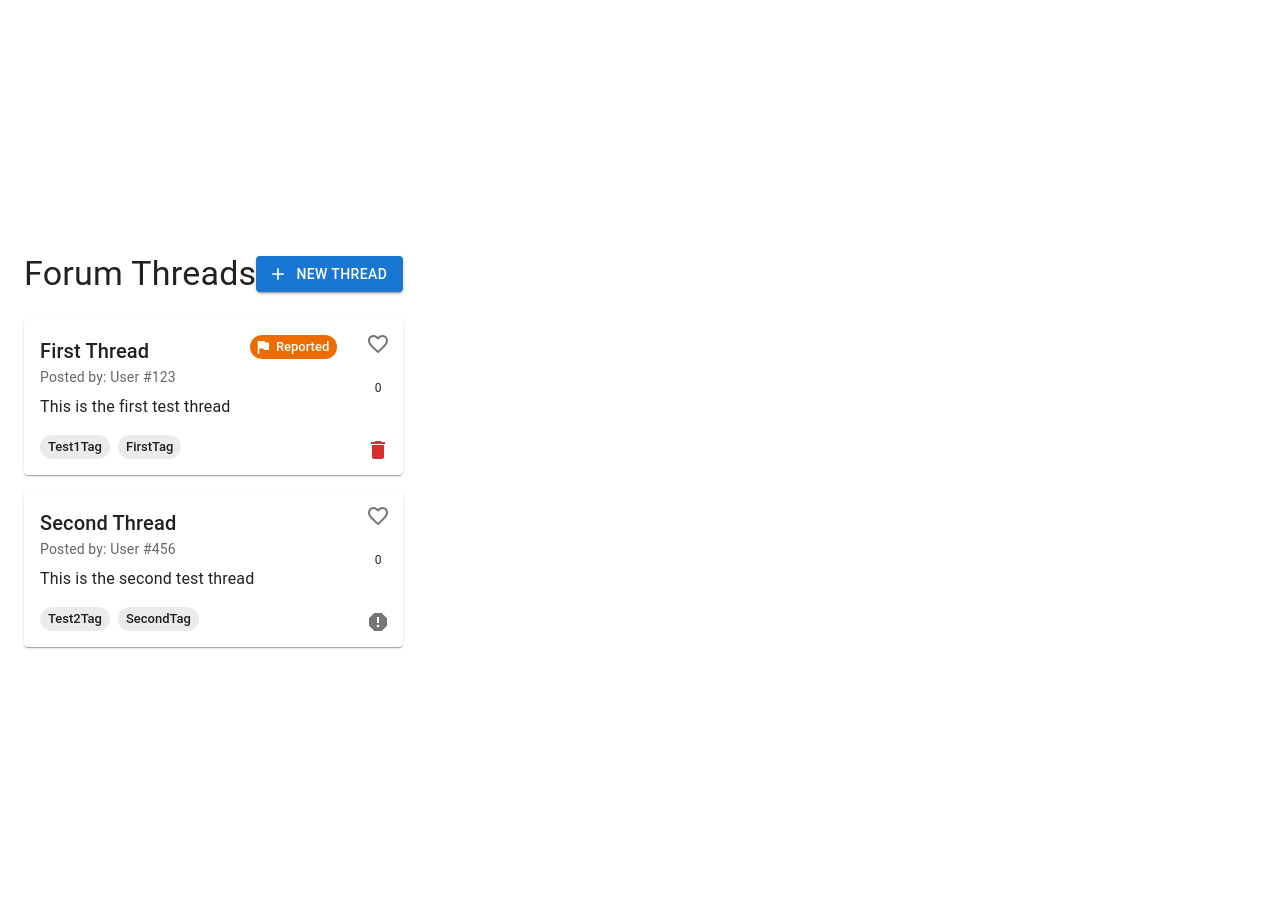
ThreadListPage › opens create thread dialog when New Thread button is clicked
Click the button "New Thread". click: (330, 274)
box: [256, 256, 403, 292]
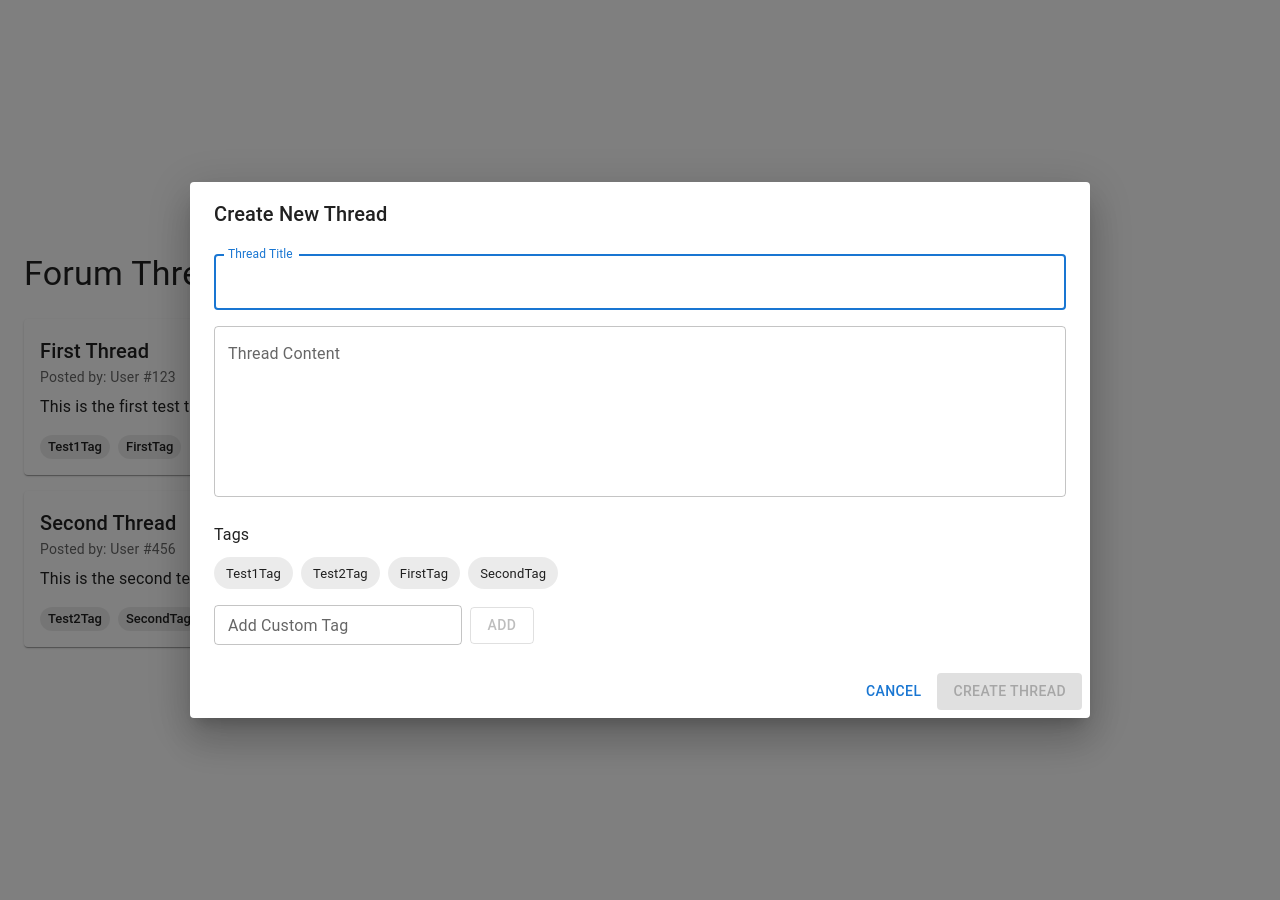
Expected: the heading "Create New Thread" is shown, [214, 202, 388, 226]
Expected: the field labelled "Thread Title" is shown, [214, 254, 1066, 310]
Expected: the text box labelled "Thread Content" is shown, [228, 343, 1052, 481]
